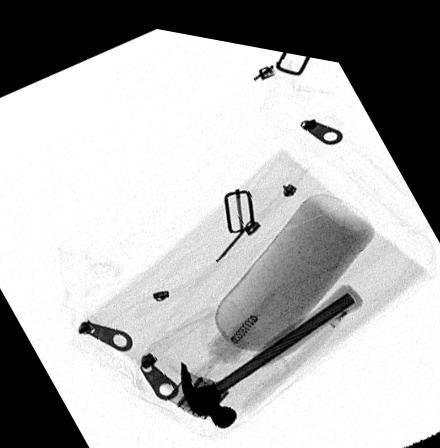Hammer: (180, 270, 365, 420)
